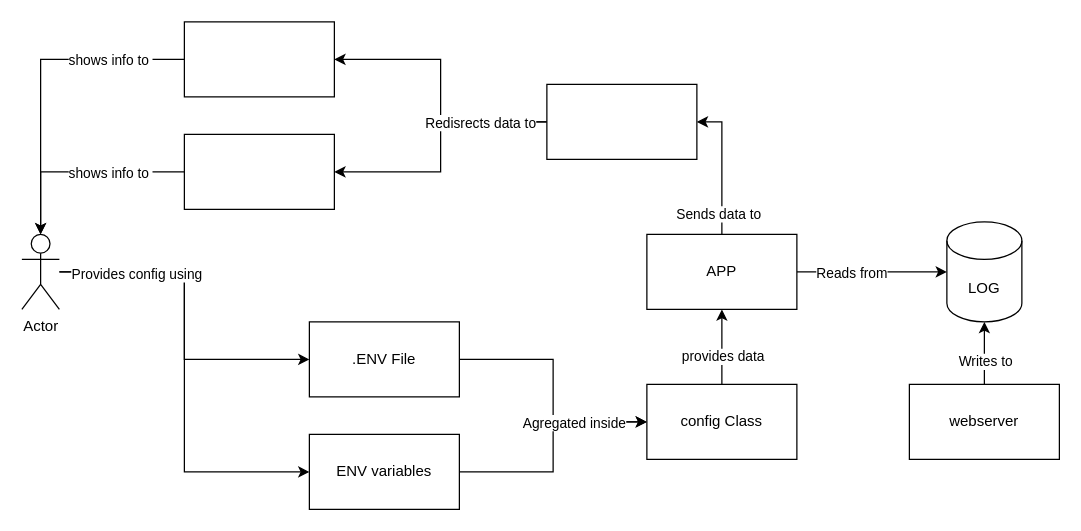
Image size: 1081x531. Some labels were removed from this diagram. The centre of each missing label's shape, as x and y in pixels:
log file: point (258, 171)
logger Class: point (621, 121)
Stdout: point (258, 59)
